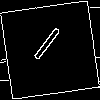I: (25, 25, 63, 71)
